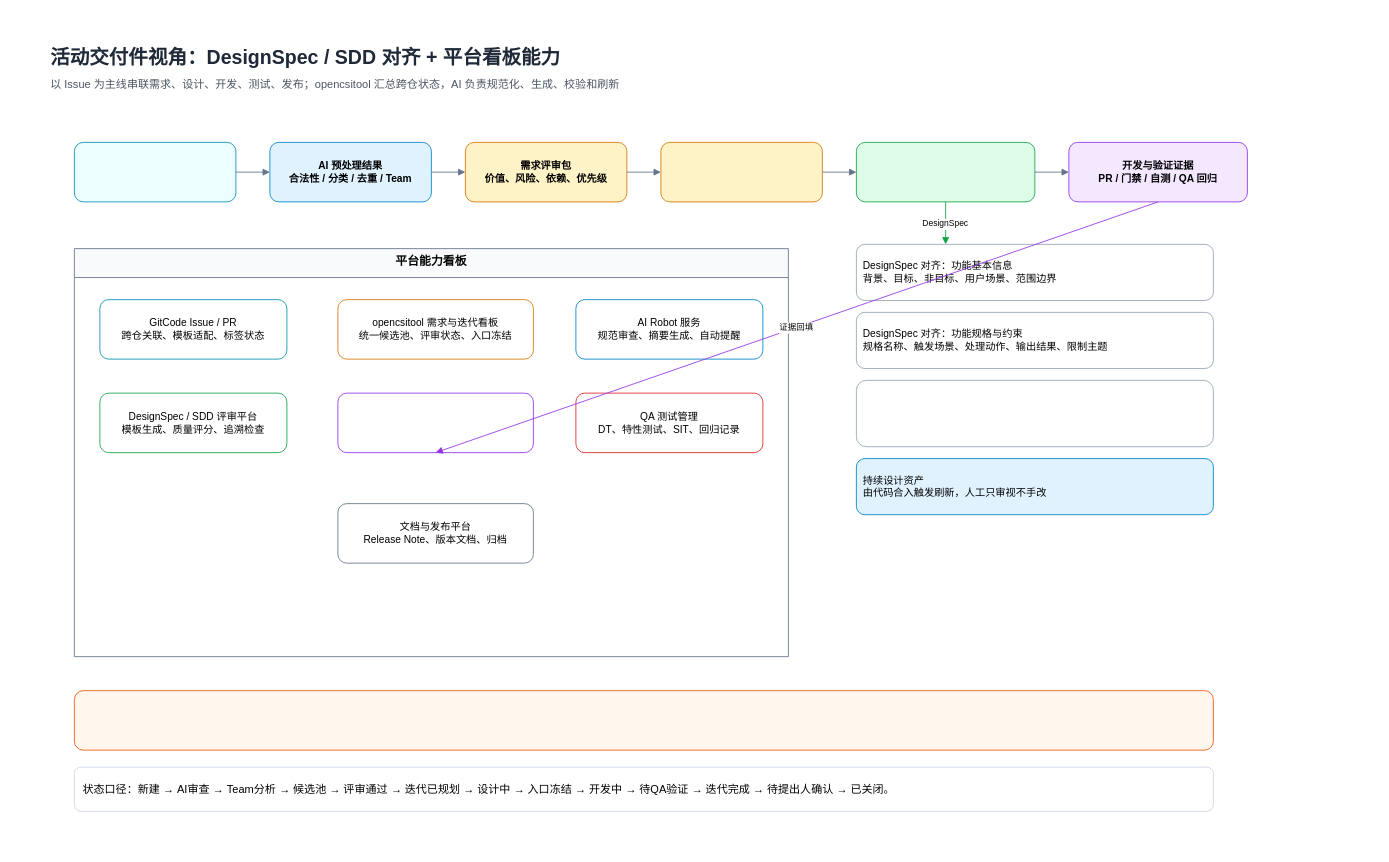
This 1389x862 diagram has some shape labels left out. The centre of each missing label's shape, as x and y in pixels:
"CI/CD 门禁平台 构建、静态检查、自测证据" belongs at point 435,422.
"版本 / 迭代计划 STS / LTS + 月度范围" belongs at point 741,172.
"特性设计包 功能定义 + 规格约束 + 设计说明书" belongs at point 945,172.
"补齐重点：跨仓 Issue 归一、版本/迭代字段、需求评审记录、准入冻结、等待提出人超时状态、漏洞 SLA、设计资产自动刷新、证据链追溯。" belongs at point 643,720.
"设计说明书 / SDD 承载内容 架构影响、接口设计、兼容性、安全、DFX、测试策略、演进风险" belongs at point 1034,413.
"需求池 / Issue 包 forum + 仓库 + 初期导入" belongs at point 155,172.
